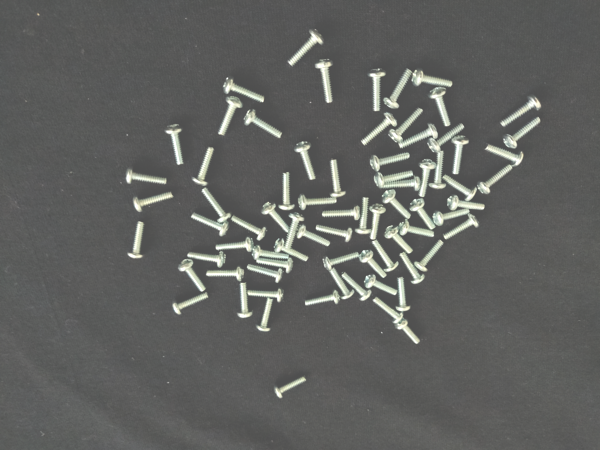shortscrew: (288, 28, 326, 67), (500, 93, 543, 127), (361, 110, 398, 146), (389, 107, 424, 143), (503, 117, 542, 149), (383, 68, 413, 109), (243, 108, 283, 138), (223, 76, 266, 103), (201, 186, 232, 223), (428, 123, 466, 153), (477, 165, 514, 195), (217, 95, 244, 136), (442, 173, 479, 202), (190, 146, 216, 187), (414, 240, 445, 274), (443, 214, 481, 241), (484, 144, 525, 168), (442, 173, 477, 201), (399, 123, 438, 148), (232, 214, 268, 241), (132, 189, 174, 212), (381, 190, 412, 221), (190, 212, 230, 236), (178, 260, 207, 293), (371, 240, 399, 274), (329, 267, 356, 302), (125, 164, 167, 186), (262, 201, 290, 234), (294, 140, 317, 180), (409, 196, 436, 230), (384, 224, 414, 254), (273, 238, 309, 263), (372, 296, 404, 324), (430, 87, 452, 127), (342, 273, 372, 302), (370, 150, 411, 171), (315, 58, 334, 103), (368, 67, 387, 112), (172, 293, 209, 316), (400, 253, 426, 285), (373, 168, 414, 188), (296, 225, 331, 248), (417, 158, 437, 198), (165, 123, 184, 165), (360, 250, 388, 278), (274, 376, 308, 399), (449, 135, 469, 174), (413, 68, 453, 87), (433, 208, 471, 227), (285, 212, 305, 248), (128, 220, 146, 259), (206, 265, 245, 283), (298, 193, 337, 211), (246, 265, 285, 283), (378, 176, 421, 192), (256, 297, 275, 333), (369, 202, 387, 240), (316, 225, 354, 243), (322, 203, 362, 220), (330, 159, 347, 199), (395, 319, 421, 345), (279, 170, 295, 212), (323, 252, 360, 270), (398, 220, 435, 238), (430, 151, 447, 190), (256, 257, 295, 274), (186, 252, 226, 268), (215, 237, 255, 253), (304, 290, 341, 307), (356, 197, 373, 234), (237, 282, 253, 320), (247, 287, 285, 303), (446, 196, 486, 211), (252, 246, 290, 261)
